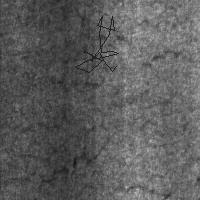crazing: (4, 108, 106, 185), (75, 16, 118, 72)
